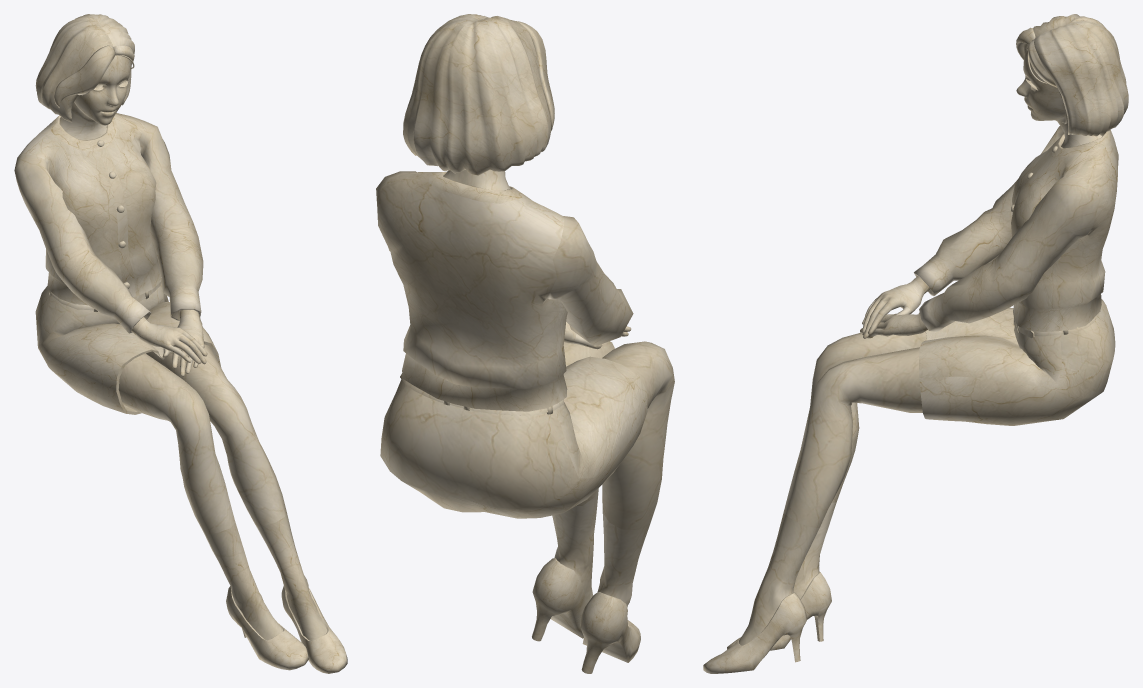
File: Sample_Avatar_W_Sit_002.fbx
3 views of the same model, side by side, from view 1: azimuth 30°, elevation 25°; view 2: azimuth 150°, elevation 25°; view 3: azimuth 270°, elevation 25° (orthographic). The views are drawn at different scales.
Visible parts, largest first — view 1: Sample_Avatar_W_Sit_002; view 2: Sample_Avatar_W_Sit_002; view 3: Sample_Avatar_W_Sit_002.
Part boxes in pixels (x1,y1,x2,y2): Sample_Avatar_W_Sit_002: [14, 14, 347, 673]; Sample_Avatar_W_Sit_002: [376, 14, 674, 673]; Sample_Avatar_W_Sit_002: [703, 14, 1128, 673].
Bounding box in the file's own units: 0.4335 × 1.31 × 0.827.
